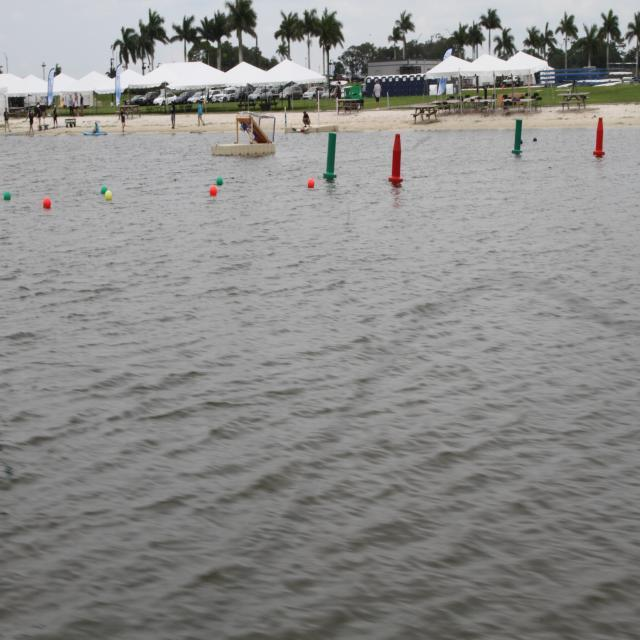buoy: (2, 191, 12, 203), (42, 198, 52, 210), (216, 176, 225, 188), (104, 190, 113, 202), (308, 179, 316, 192), (100, 186, 108, 196), (210, 186, 218, 196), (533, 136, 538, 144)
